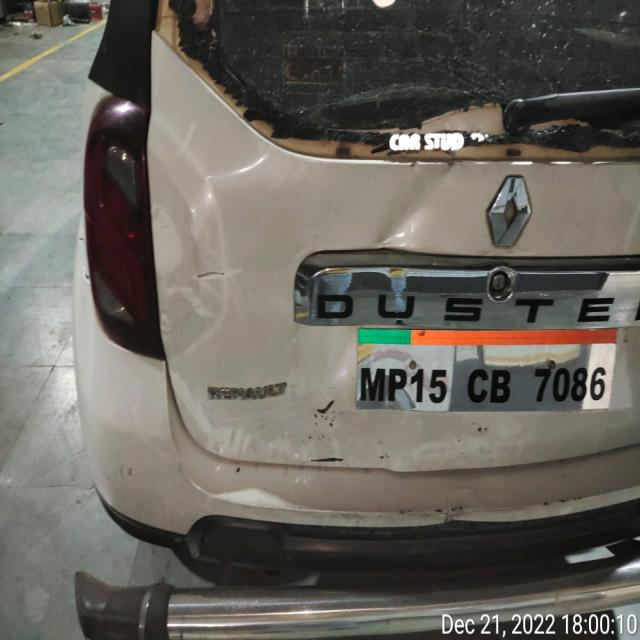damage: (148, 93, 639, 467), (147, 0, 640, 179)
